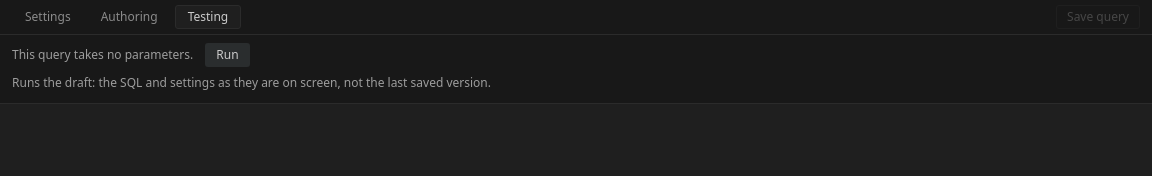
it: Testing › renders a failure with the console's own traceback block
Click the button "Run" at (227,55), box x1=205 y1=43 x2=250 y2=67
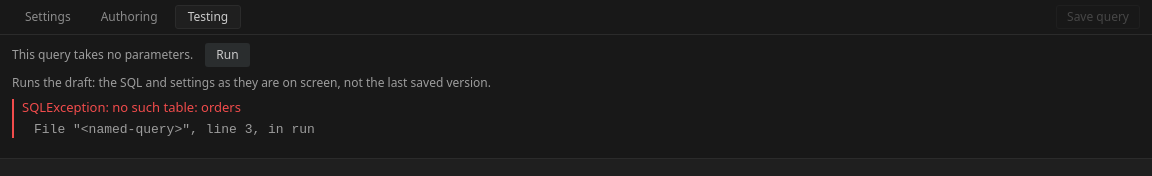
Now the text "SQLException: no such table: orders" is shown, box x1=22 y1=98 x2=241 y2=116
Now the text "File \"<named-query>\", line 3, in run" is shown, box x1=34 y1=122 x2=315 y2=137
